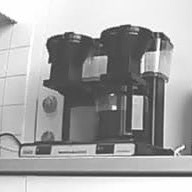not empty coffee: (92, 85, 148, 139)
